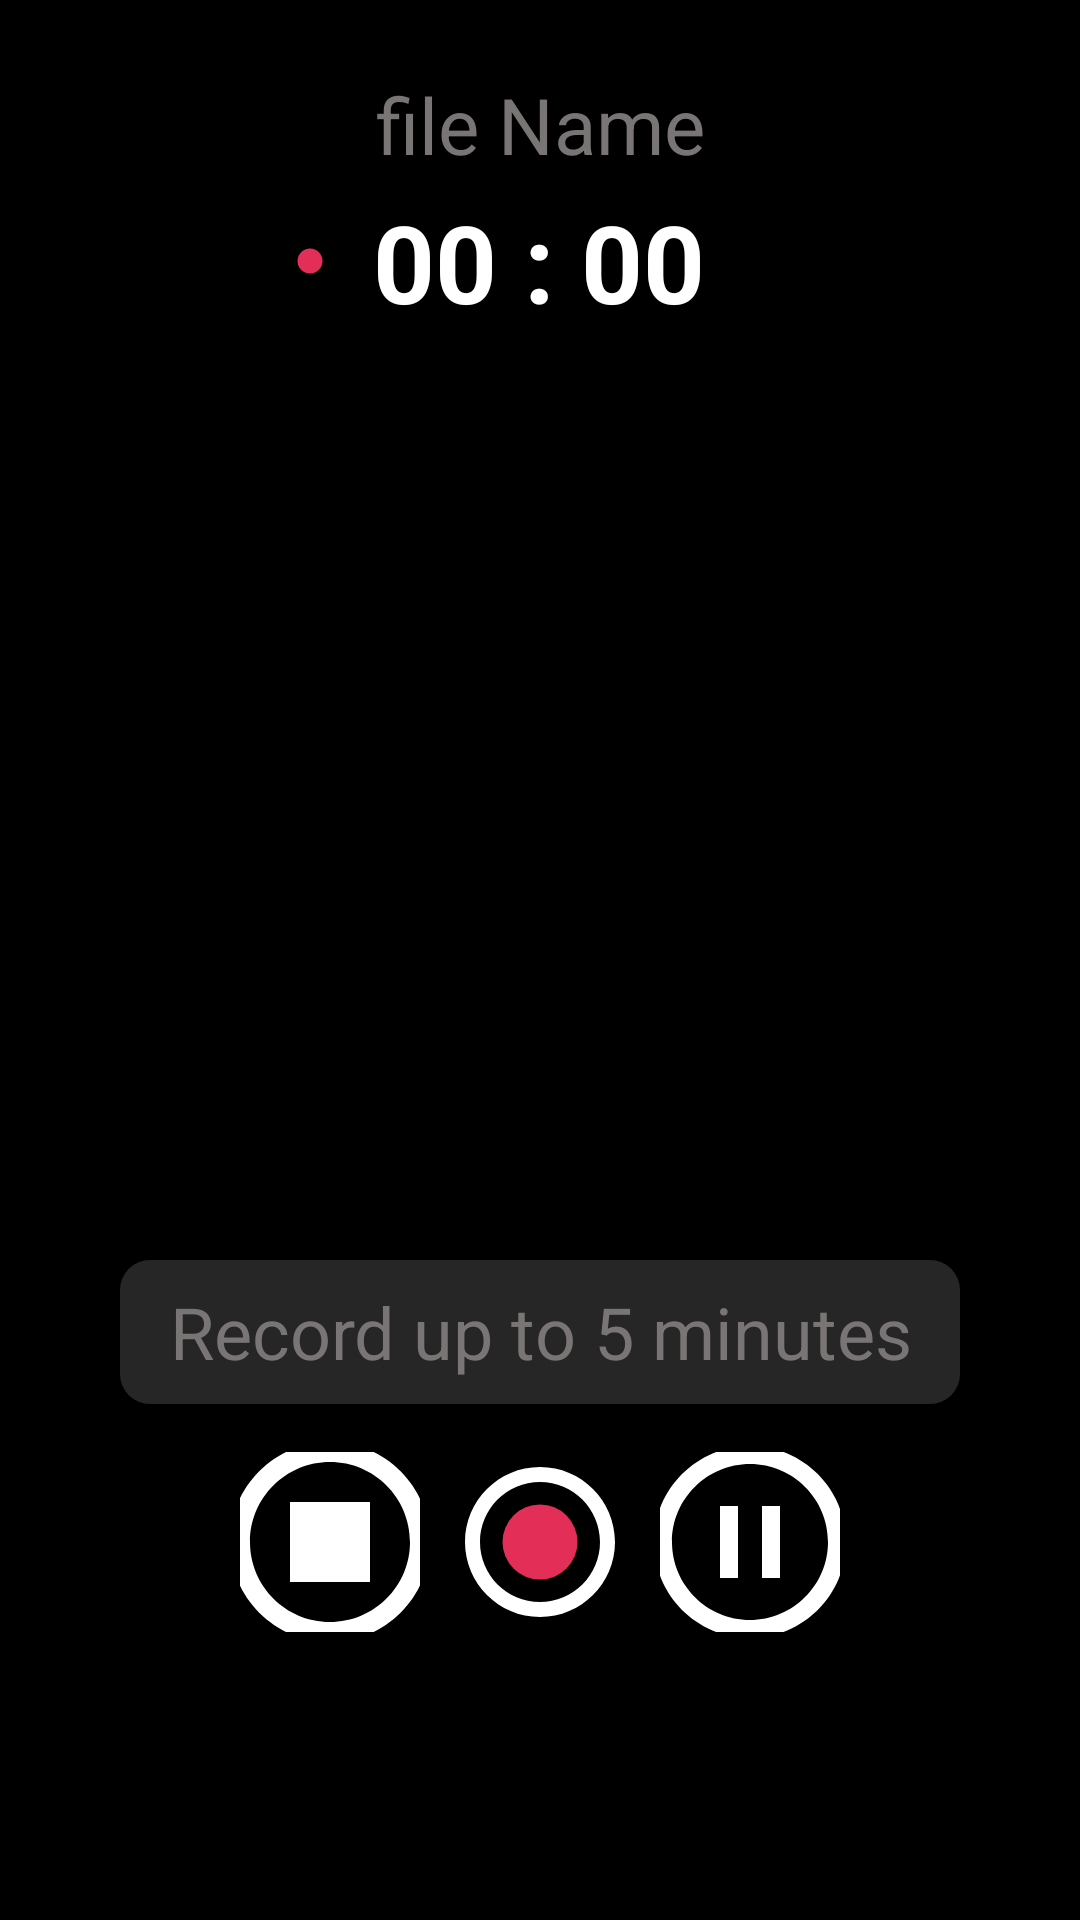

Locate icon controls on the screen. Image size 1080px×1920px, boxes as (x1, y1, x2, y2).
pause: (660, 1452, 840, 1632)
radio checked: (465, 1467, 615, 1617)
stop: (240, 1452, 420, 1632)
